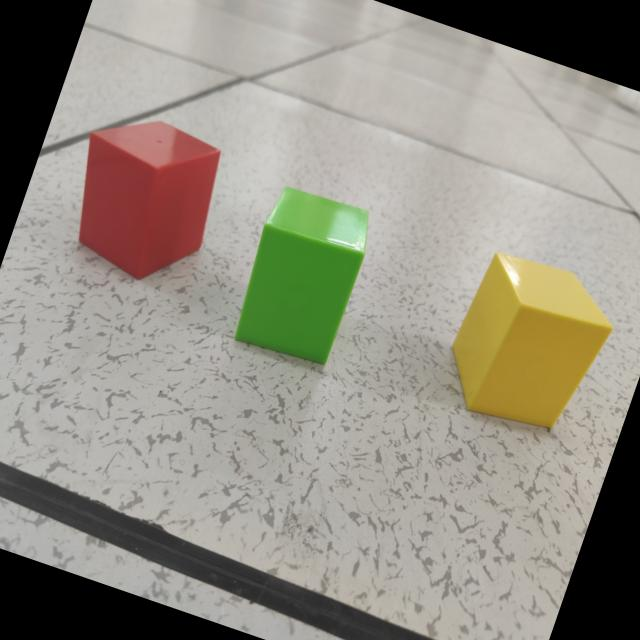green: (233, 188, 368, 367)
red: (77, 121, 220, 281)
yellow: (450, 252, 611, 431)
